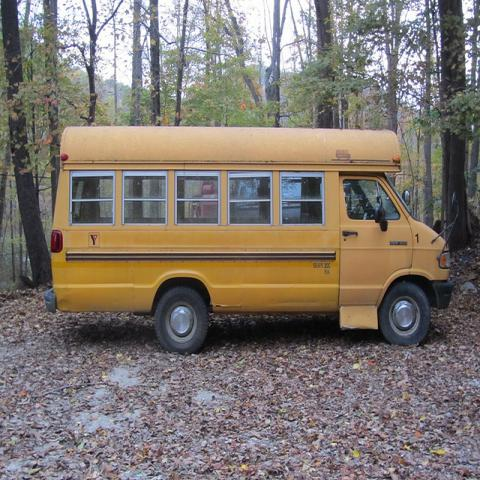bus: (44, 127, 461, 354)
